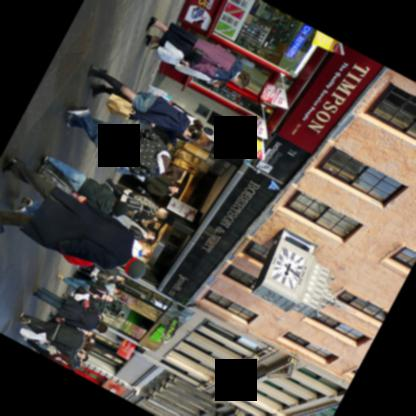handbag: (33, 158, 78, 197), (186, 47, 230, 79), (105, 95, 136, 119), (155, 45, 188, 66), (45, 345, 69, 367), (18, 328, 46, 345), (163, 40, 184, 59), (73, 286, 93, 295), (77, 299, 89, 308)
